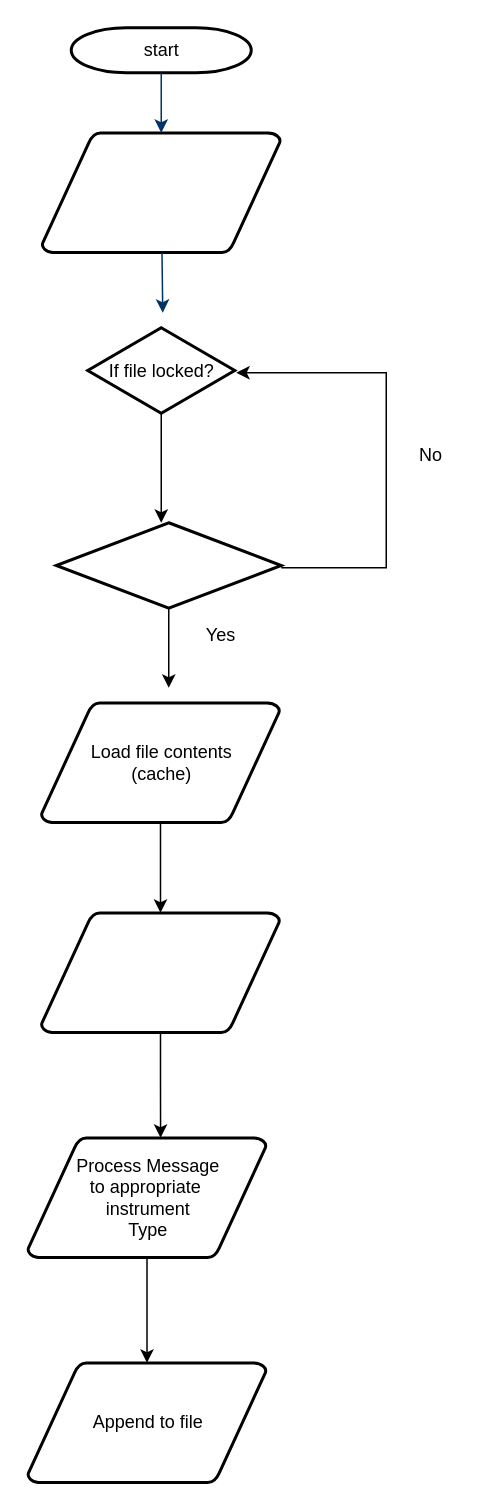
Image size: 501x1509. Some labels were removed from this diagram. The shapes that lost their labels are listed below. From the top down, each one's centre as x and y in pixels, then its label:
pixel 160 192: Load Files (PrimeGenerator)
pixel 168 564: Is file accessible?
pixel 159 972: Read Instrument Queue
